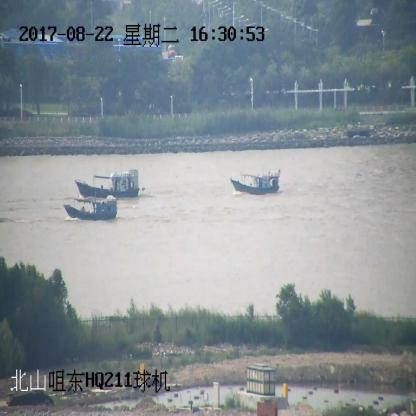Fishing Boat: (74, 170, 138, 197), (65, 196, 117, 221), (230, 171, 280, 195)
